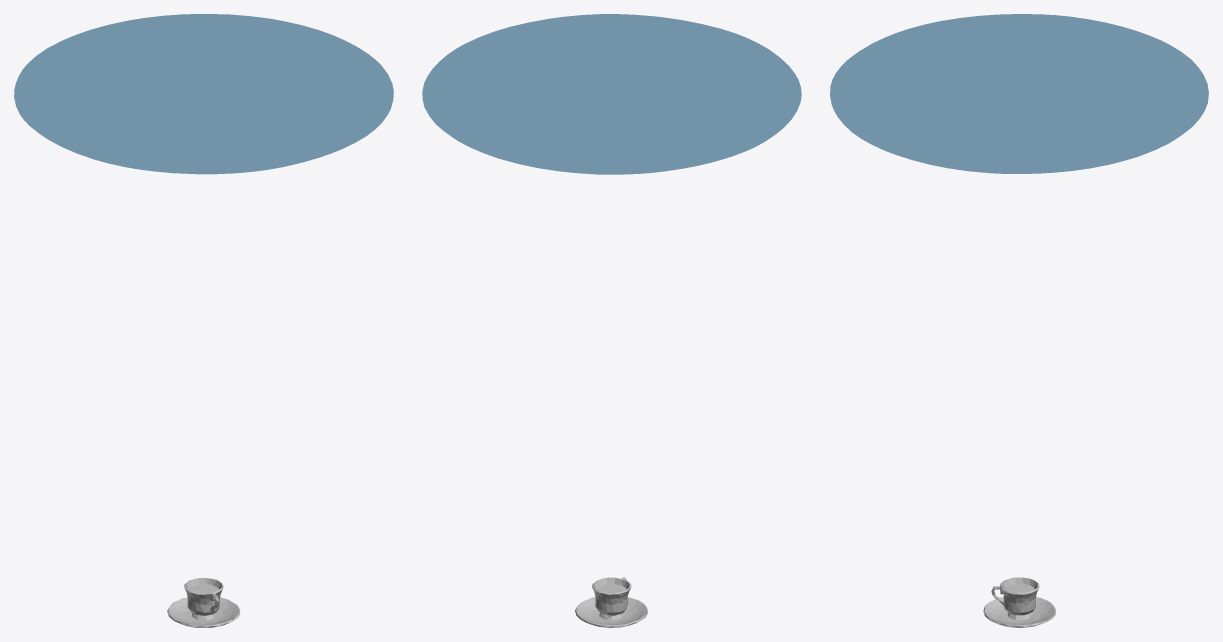
File: init.glb
3 renders of one model, left to right at view 1: azimuth 30°, elevation 25°; view 2: azimuth 150°, elevation 25°; view 3: azimuth 270°, elevation 25°, orthographic.
Parts seen in each view (by area): view 1: world, object.obj; view 2: world, object.obj; view 3: world, object.obj.
Boxes of the visible parts, x1,y1,x2,y2 form: world: [14, 14, 393, 174]; object.obj: [167, 578, 240, 627]; world: [422, 14, 801, 174]; object.obj: [575, 577, 647, 627]; world: [830, 14, 1208, 173]; object.obj: [983, 577, 1055, 627].
Bounding box in the file's own units: 0.653 × 0.9992 × 0.653.
